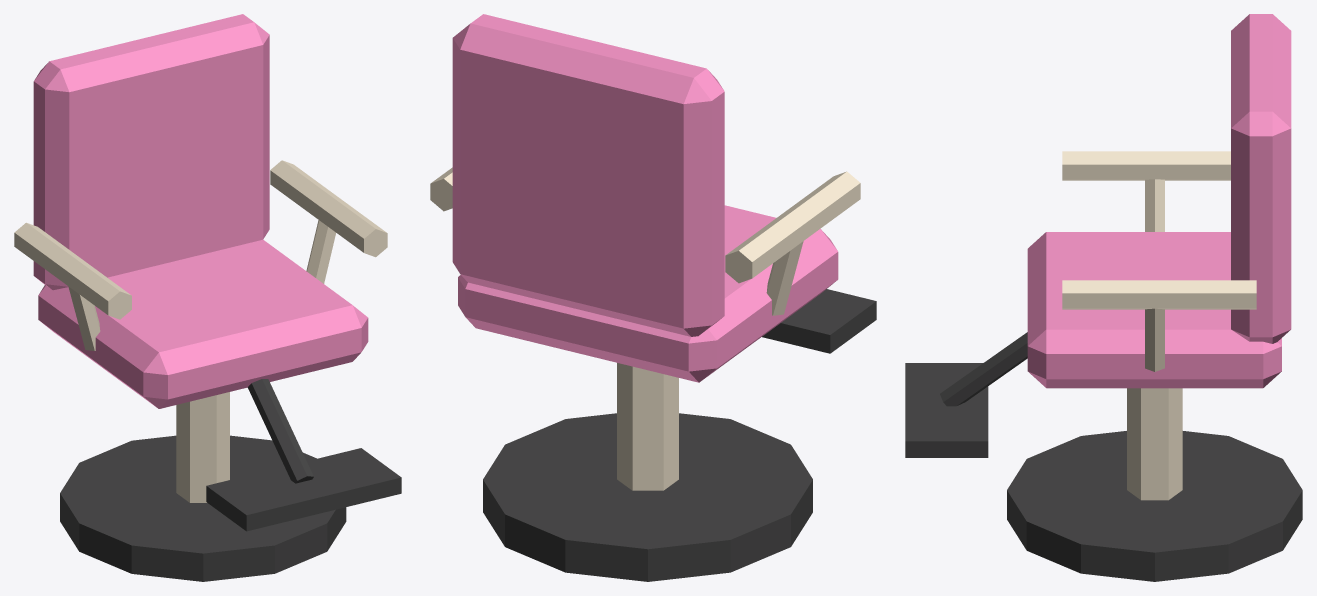
3 renders of one model, left to right at view 1: azimuth 30°, elevation 25°; view 2: azimuth 150°, elevation 25°; view 3: azimuth 270°, elevation 25°, orthographic. The views are drawn at different scales.
Visible parts, largest first — view 1: Back, Seat, Base, Footrest, Hydraulic post, Arm.001, Arm, Footrest support, Arm support.001, Arm support; view 2: Back, Base, Seat, Hydraulic post, Arm, Footrest, Arm support, Arm.001; view 3: Base, Seat, Back, Footrest, Hydraulic post, Arm.001, Arm, Footrest support, Arm support.001, Arm support.
Boxes of the visible parts, left/top/right/bottom form: Back: left=33, top=14, right=269, bottom=290; Seat: left=38, top=239, right=368, bottom=408; Base: left=60, top=435, right=346, bottom=581; Footrest: left=206, top=448, right=401, bottom=531; Hydraulic post: left=176, top=392, right=229, bottom=502; Arm.001: left=270, top=160, right=387, bottom=257; Arm: left=14, top=222, right=131, bottom=319; Footrest support: left=247, top=379, right=313, bottom=483; Arm support.001: left=306, top=220, right=335, bottom=283; Arm support: left=68, top=286, right=100, bottom=350; Back: left=452, top=14, right=724, bottom=336; Base: left=483, top=413, right=812, bottom=581; Seat: left=458, top=205, right=838, bottom=382; Hydraulic post: left=617, top=363, right=678, bottom=490; Arm: left=725, top=171, right=860, bottom=283; Footrest: left=762, top=289, right=876, bottom=353; Arm support: left=766, top=241, right=803, bottom=315; Arm.001: left=430, top=167, right=452, bottom=211; Base: left=1007, top=431, right=1302, bottom=581; Seat: left=1027, top=232, right=1281, bottom=388; Back: left=1231, top=14, right=1291, bottom=343; Footrest: left=905, top=363, right=988, bottom=457; Hydraulic post: left=1127, top=388, right=1182, bottom=500; Arm.001: left=1062, top=280, right=1256, bottom=309; Arm: left=1062, top=151, right=1230, bottom=180; Footrest support: left=940, top=332, right=1027, bottom=406; Arm support.001: left=1145, top=308, right=1164, bottom=371; Arm support: left=1145, top=179, right=1164, bottom=231.
Size of the model in its own units: 72.06 by 109 by 86.
